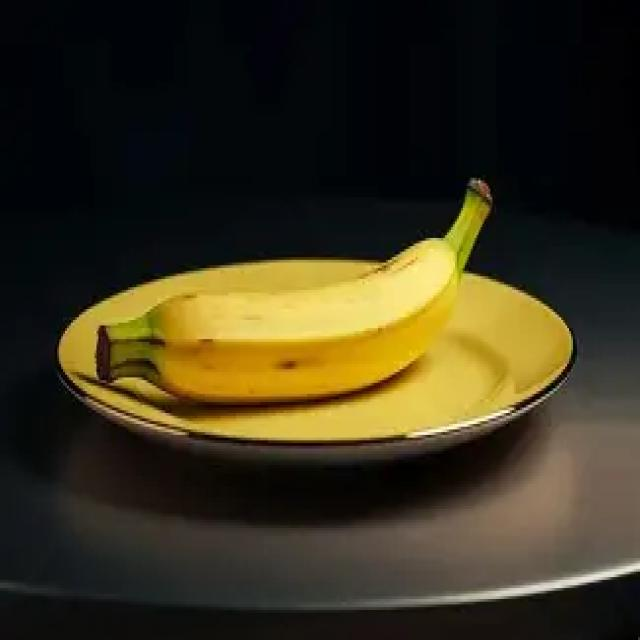BANANA: (95, 172, 493, 400)
